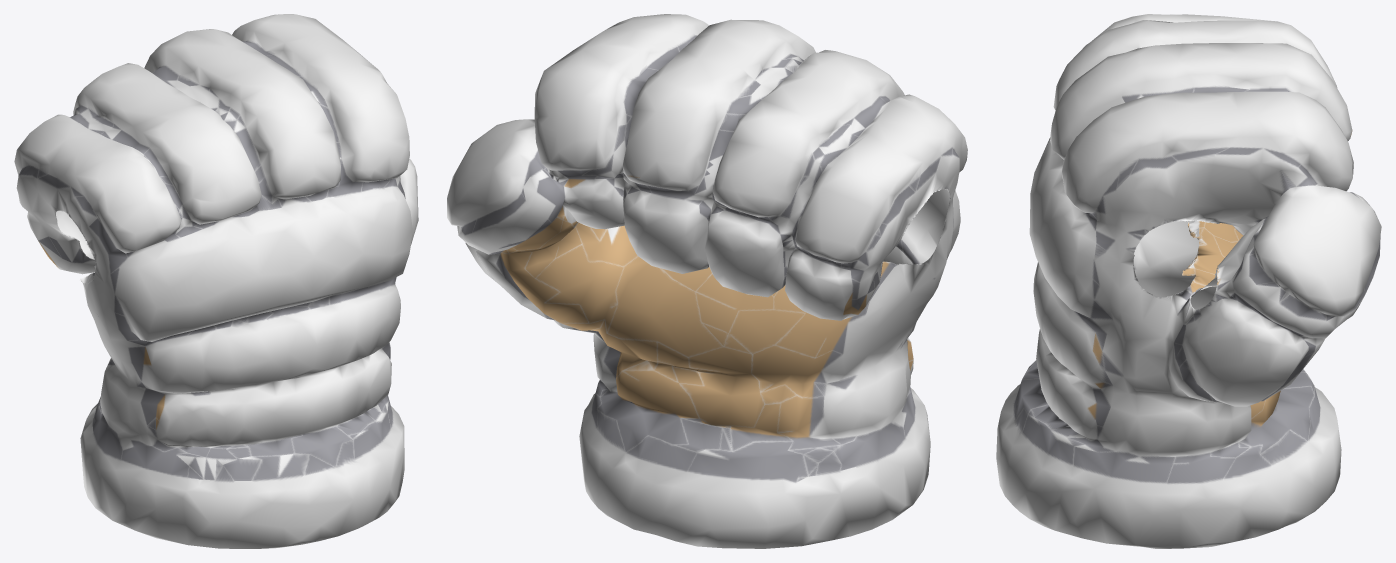
Rendered from fist.obj.
The picture shows the model from 3 angles, left to right: view 1: azimuth 30°, elevation 25°; view 2: azimuth 150°, elevation 25°; view 3: azimuth 270°, elevation 25°; orthographic projection. The views are drawn at different scales.
Size of the model in its own units: 1.14 by 1.15 by 0.9189.
1 material, 1 textured.
